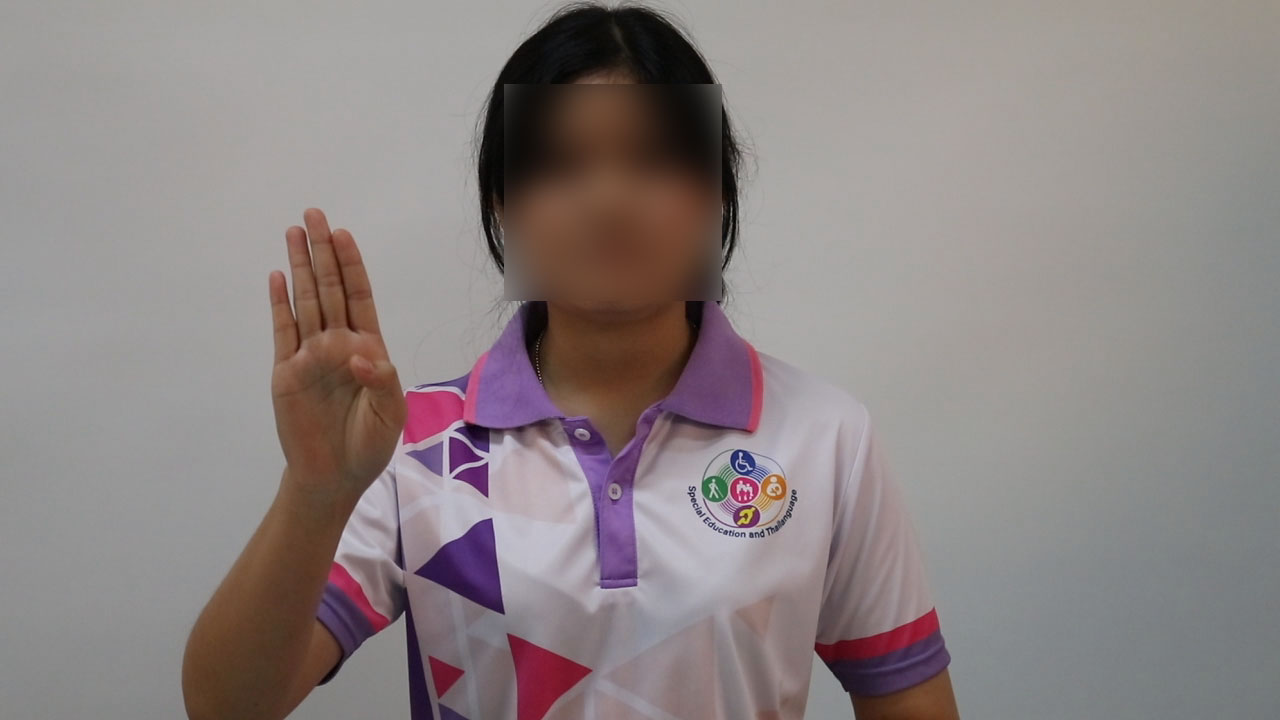bor: (243, 191, 420, 514)
